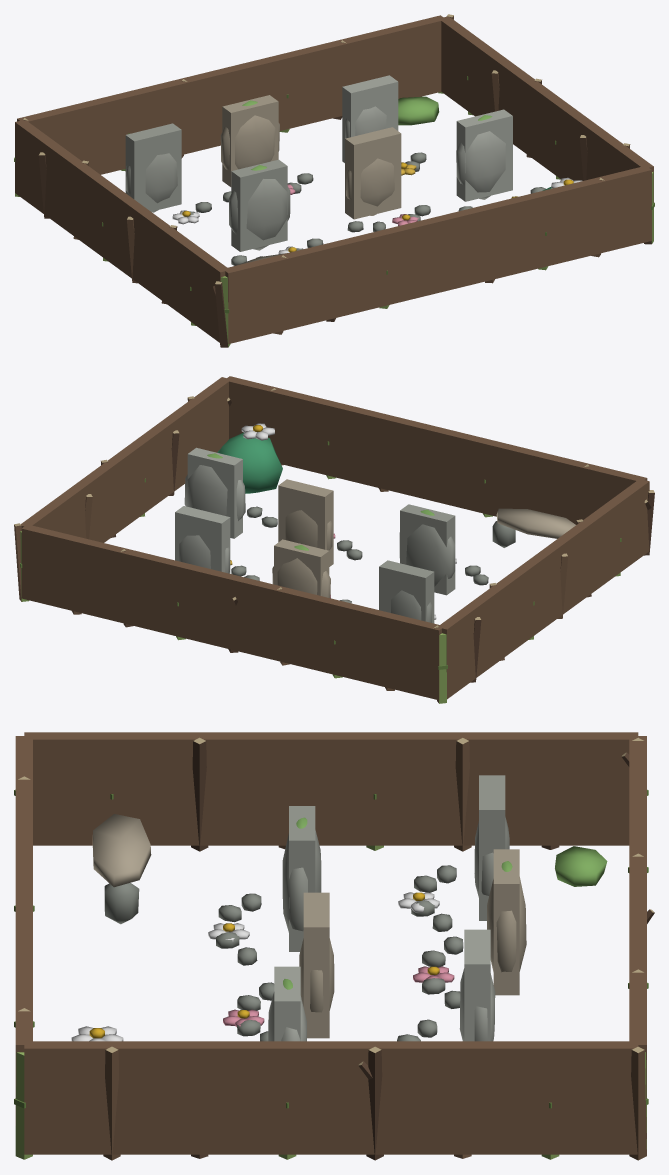
Rendered from graveyard.glb.
3 renders of one model, top to bottom at view 1: azimuth 30°, elevation 25°; view 2: azimuth 150°, elevation 25°; view 3: azimuth 270°, elevation 25°, orthographic. The views are drawn at different scales.
Visible parts, largest first — view 1: body__far, body, body_nl; view 2: body__far, body, body_nl; view 3: body__far, body, body_nl.
Part boxes in pixels (box(x1,y1,x2,y2)): body__far: box(15, 15, 653, 343); body: box(14, 14, 654, 347); body_nl: box(172, 96, 582, 254); body__far: box(21, 376, 649, 700); body: box(14, 388, 654, 703); body_nl: box(217, 423, 456, 619); body__far: box(15, 732, 646, 1154); body: box(14, 737, 654, 1160); body_nl: box(71, 846, 607, 1041).
Bounding box in the file's own units: 2.62 × 0.5107 × 2.19.
